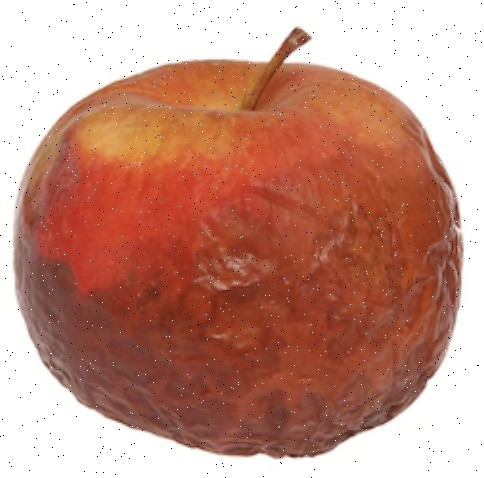rotten_apple: (15, 58, 464, 458)
